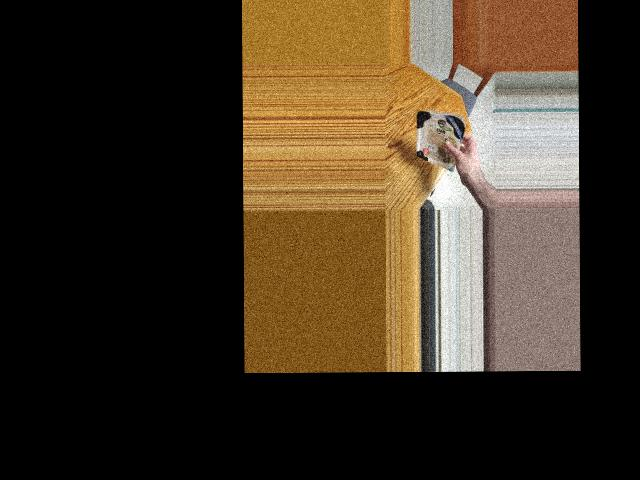cheese: (421, 108, 457, 167)
